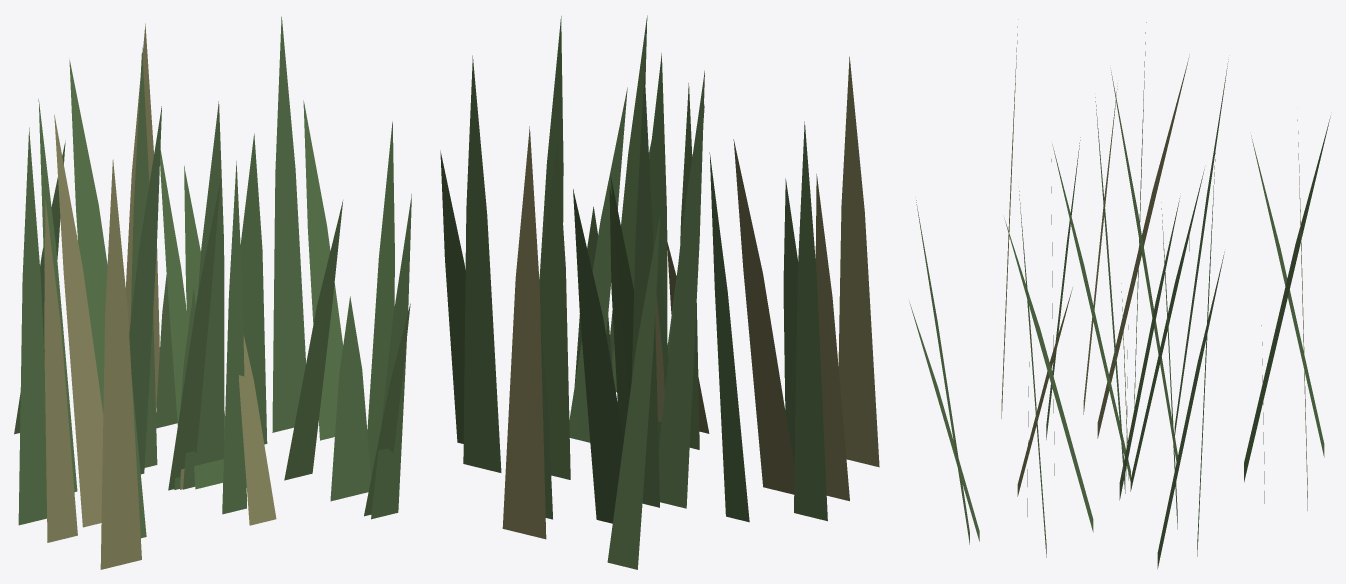
Rendered from grass_clump_v6.glb.
3 views of the same model, side by side, from view 1: azimuth 30°, elevation 25°; view 2: azimuth 150°, elevation 25°; view 3: azimuth 270°, elevation 25° (orthographic). The views are drawn at different scales.
Parts seen in each view (by area): view 1: GrassBlade_25, GrassBlade_14, GrassBlade_5, GrassBlade_1, GrassBlade_15, GrassBlade_2, GrassBlade_12, GrassBlade_7, GrassBlade_21, GrassBlade_16, GrassBlade_22, GrassBlade_24 (+15 smaller); view 2: GrassBlade_20, GrassBlade_25, GrassBlade_14, GrassBlade_7, GrassBlade_1, GrassBlade_5, GrassBlade_12, GrassBlade_17, GrassBlade_6, GrassBlade_9, GrassBlade_15, GrassBlade_23 (+14 smaller); view 3: GrassBlade_12, GrassBlade_5, GrassBlade_24, GrassBlade_22, GrassBlade_7, GrassBlade_27, GrassBlade_17, GrassBlade_4, GrassBlade_8, GrassBlade_9, GrassBlade_19, GrassBlade_3 (+7 smaller).
Boxes of the visible parts, x1,y1,x2,y2 form: GrassBlade_25: (100, 159, 141, 569); GrassBlade_14: (272, 16, 305, 432); GrassBlade_5: (54, 114, 103, 527); GrassBlade_1: (18, 127, 46, 525); GrassBlade_15: (44, 200, 77, 542); GrassBlade_2: (183, 101, 224, 489); GrassBlade_12: (69, 58, 107, 413); GrassBlade_7: (129, 106, 161, 474); GrassBlade_21: (222, 161, 246, 514); GrassBlade_16: (330, 296, 371, 501); GrassBlade_22: (303, 100, 343, 440); GrassBlade_24: (284, 200, 343, 480); GrassBlade_20: (502, 126, 546, 539); GrassBlade_25: (838, 56, 879, 467); GrassBlade_14: (463, 55, 501, 472); GrassBlade_7: (658, 70, 704, 508); GrassBlade_1: (794, 121, 827, 521); GrassBlade_5: (733, 139, 794, 494); GrassBlade_12: (573, 189, 623, 523); GrassBlade_17: (607, 212, 660, 569); GrassBlade_6: (540, 137, 570, 479); GrassBlade_9: (709, 152, 749, 522); GrassBlade_15: (815, 174, 849, 501); GrassBlade_23: (631, 70, 659, 507); GrassBlade_12: (1244, 116, 1330, 482); GrassBlade_5: (1097, 54, 1189, 438); GrassBlade_24: (1004, 217, 1093, 532); GrassBlade_22: (1157, 251, 1224, 568); GrassBlade_7: (1111, 70, 1177, 461); GrassBlade_27: (1052, 144, 1130, 482); GrassBlade_17: (1251, 135, 1324, 457); GrassBlade_4: (1130, 169, 1204, 491); GrassBlade_8: (1119, 198, 1179, 500); GrassBlade_9: (1174, 59, 1228, 435); GrassBlade_19: (916, 200, 969, 544); GrassBlade_3: (909, 302, 979, 541).
Size of the model in its own units: 0.5798 by 0.672 by 0.6085.
